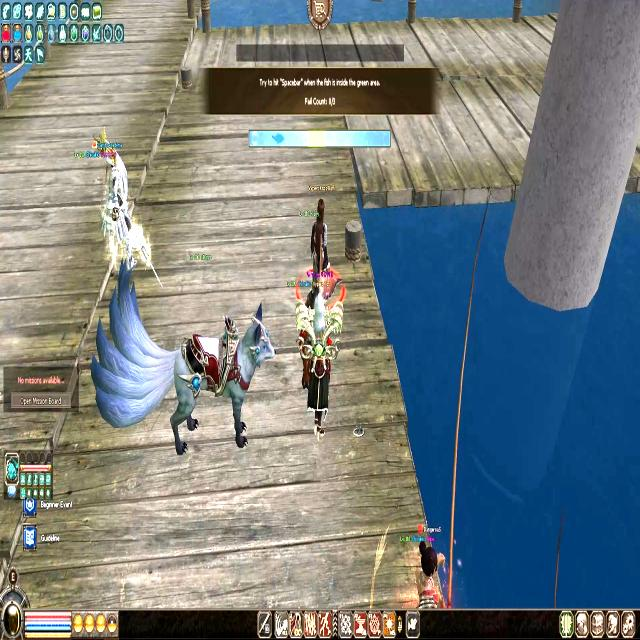fishes: (272, 131, 285, 145)
